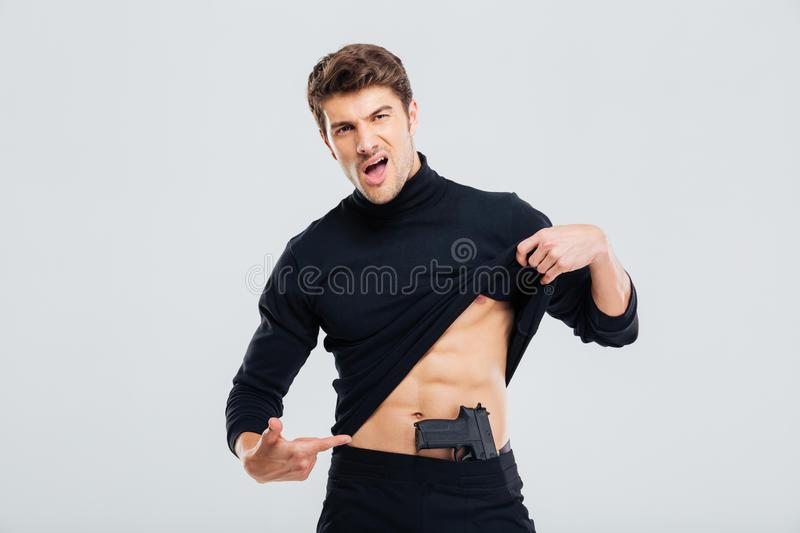criminal: (223, 39, 642, 533)
weapon: (410, 399, 501, 467)
